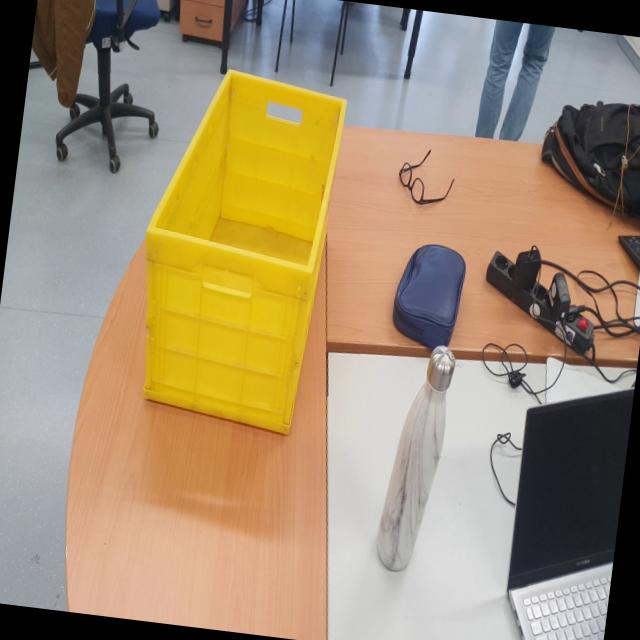box: (116, 31, 355, 456)
